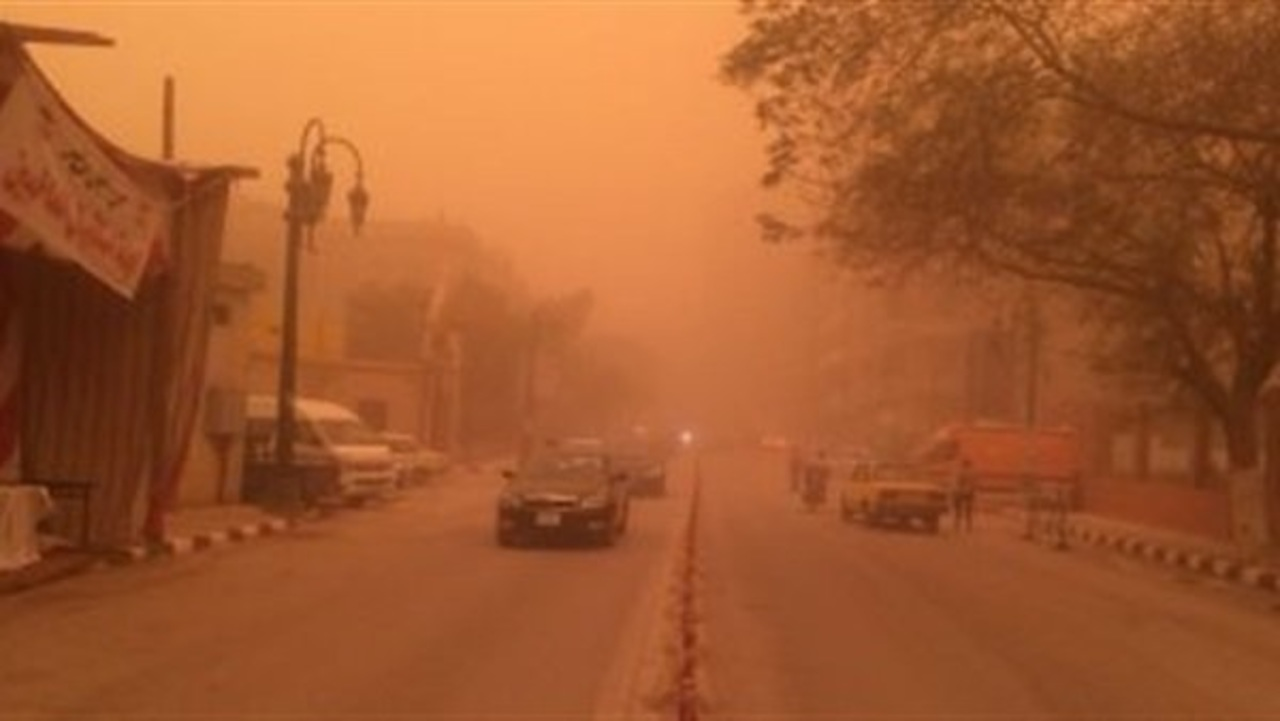car: (246, 389, 400, 504), (922, 415, 1079, 501), (495, 452, 623, 548), (840, 453, 942, 529), (377, 432, 448, 486), (603, 438, 663, 495)
motorcycle: (803, 466, 827, 507)
person: (953, 453, 978, 535), (808, 445, 828, 490)
